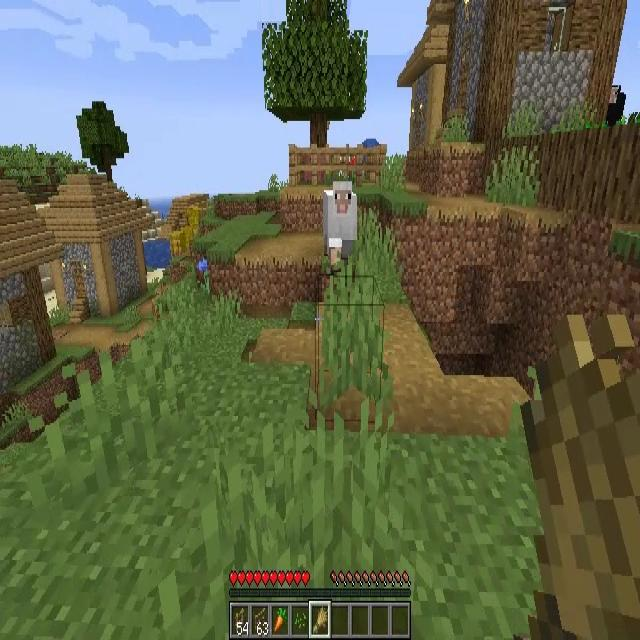sheep: (324, 181, 357, 264)
